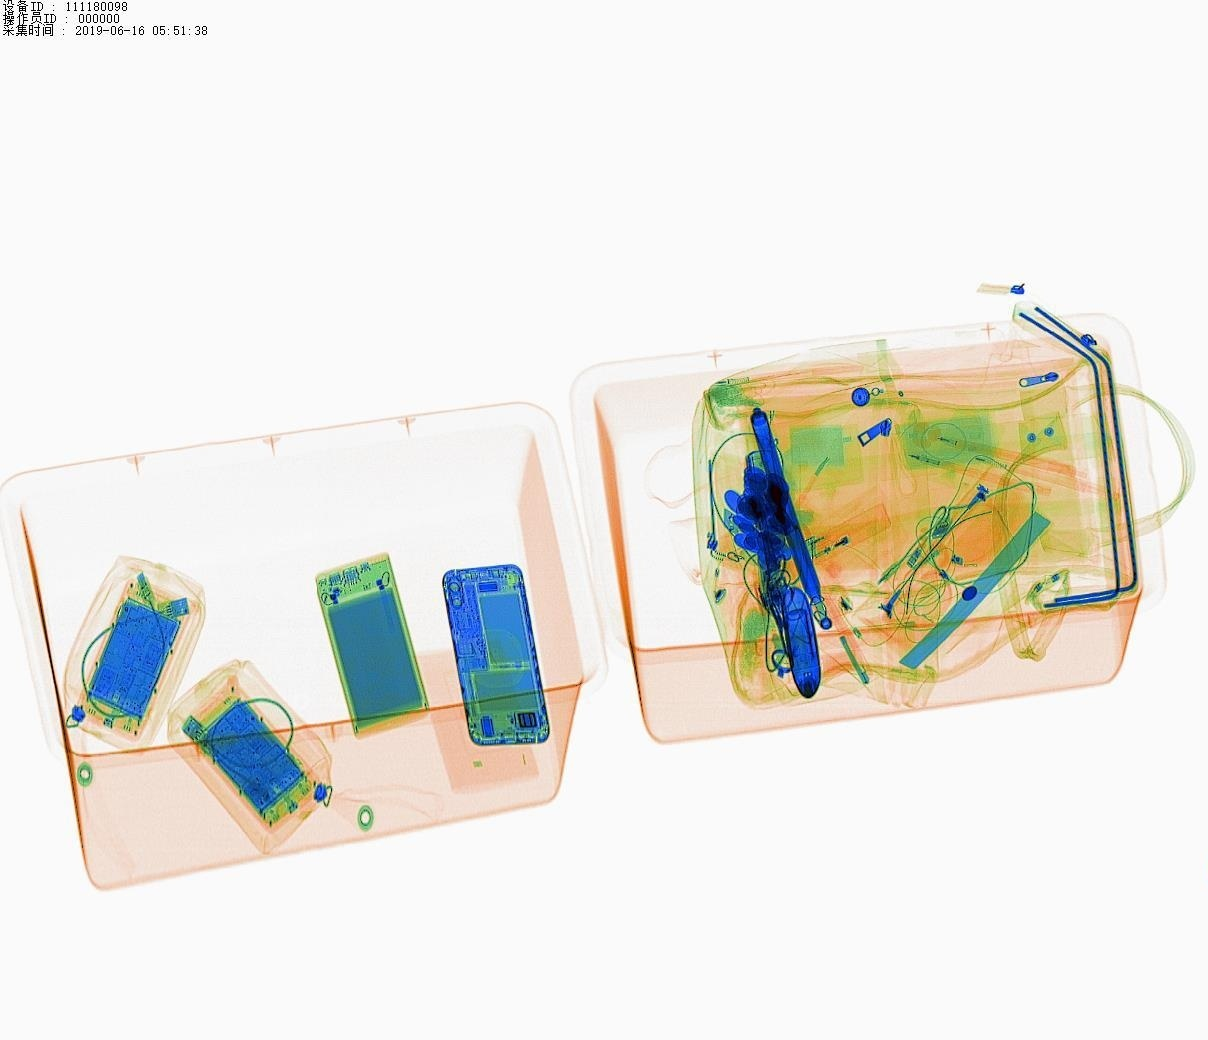NonmetallicFire: (795, 505, 905, 574)
